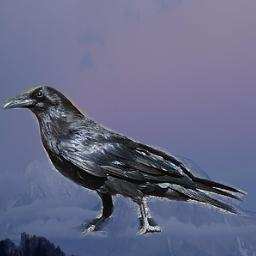Crow: (2, 85, 256, 240)
